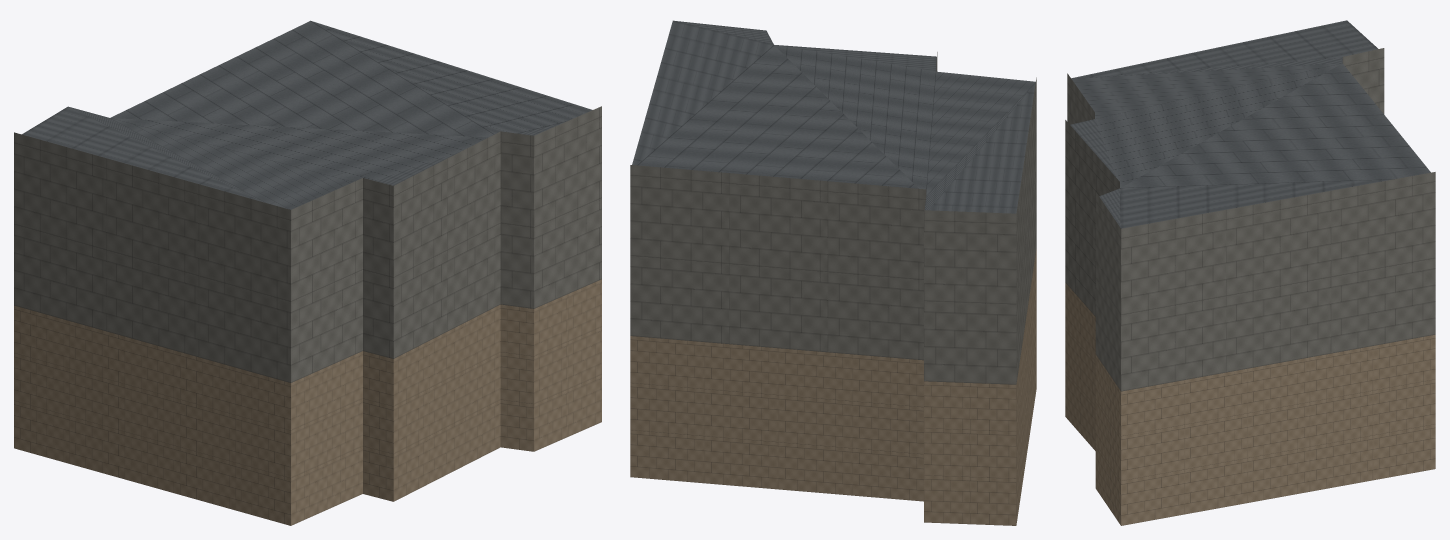
The model's file is bld_c-11_36_465.gltf.
3 renders of one model, left to right at view 1: azimuth 30°, elevation 25°; view 2: azimuth 150°, elevation 25°; view 3: azimuth 270°, elevation 25°, orthographic. The views are drawn at different scales.
Parts seen in each view (by area): view 1: bld_c-11_36_465; view 2: bld_c-11_36_465; view 3: bld_c-11_36_465.
Boxes of the visible parts, <box> form: bld_c-11_36_465: <box>14,20,601,525</box>; bld_c-11_36_465: <box>630,20,1036,525</box>; bld_c-11_36_465: <box>1065,20,1435,525</box>.
Bounding box in the file's own units: 17.47 × 11.28 × 12.74.
Materials: 4 (4 with a texture image).
